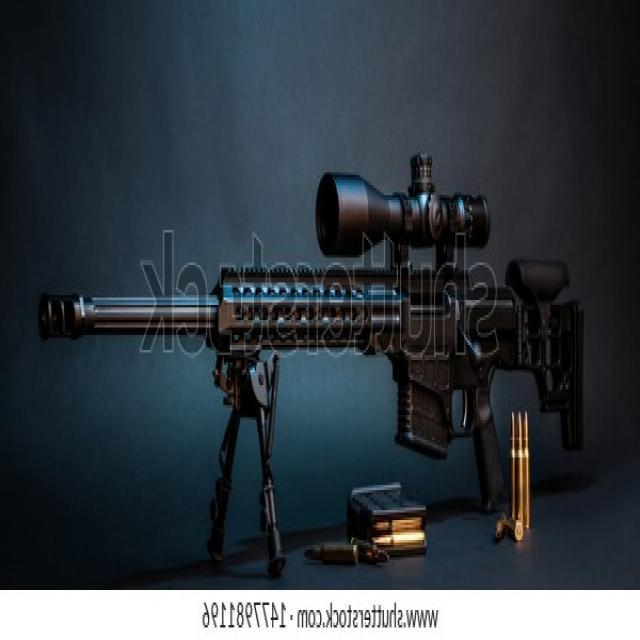scope: (309, 138, 497, 269)
sniper rifle: (28, 123, 591, 601)
